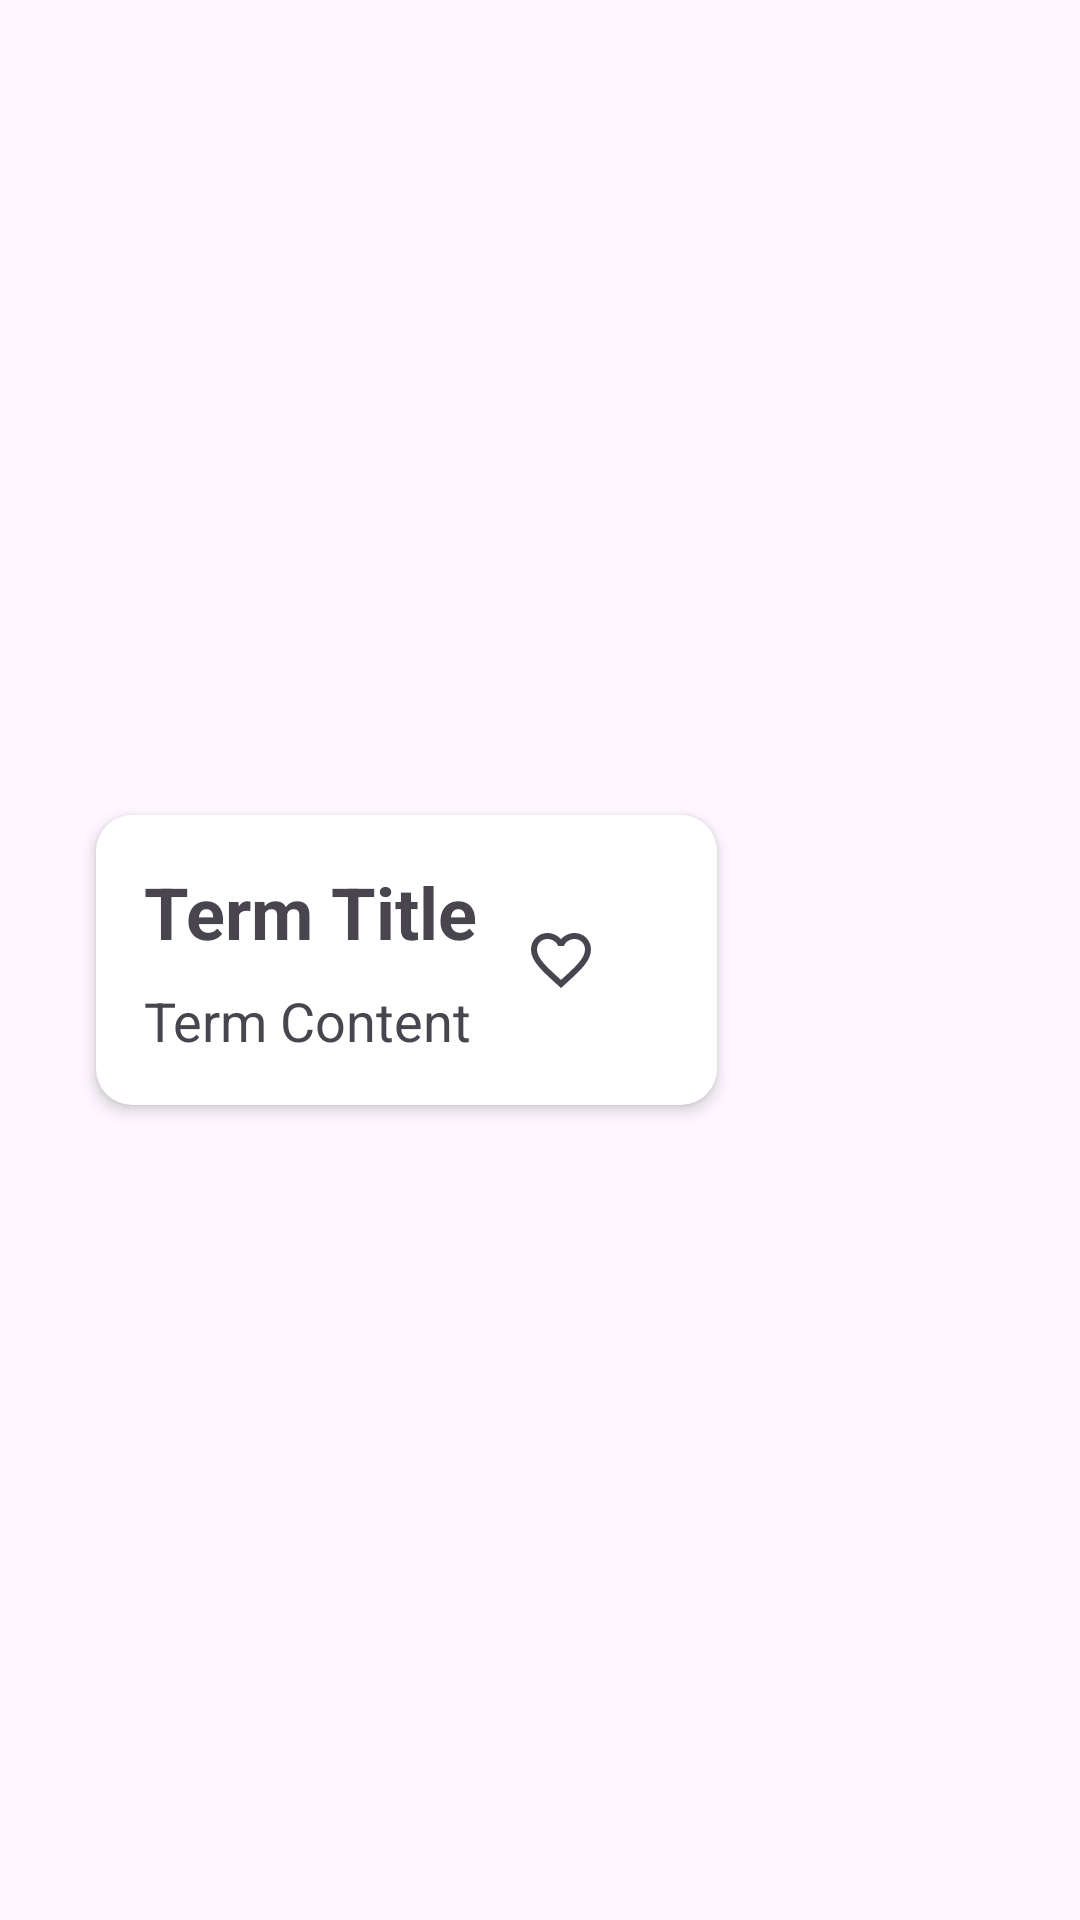

Icon bounding boxes for this 1080 x 1920 phone screenshot, format bbox=[x1, y1, x2, y2]:
checkbox favorite: bbox=[531, 933, 591, 988]
